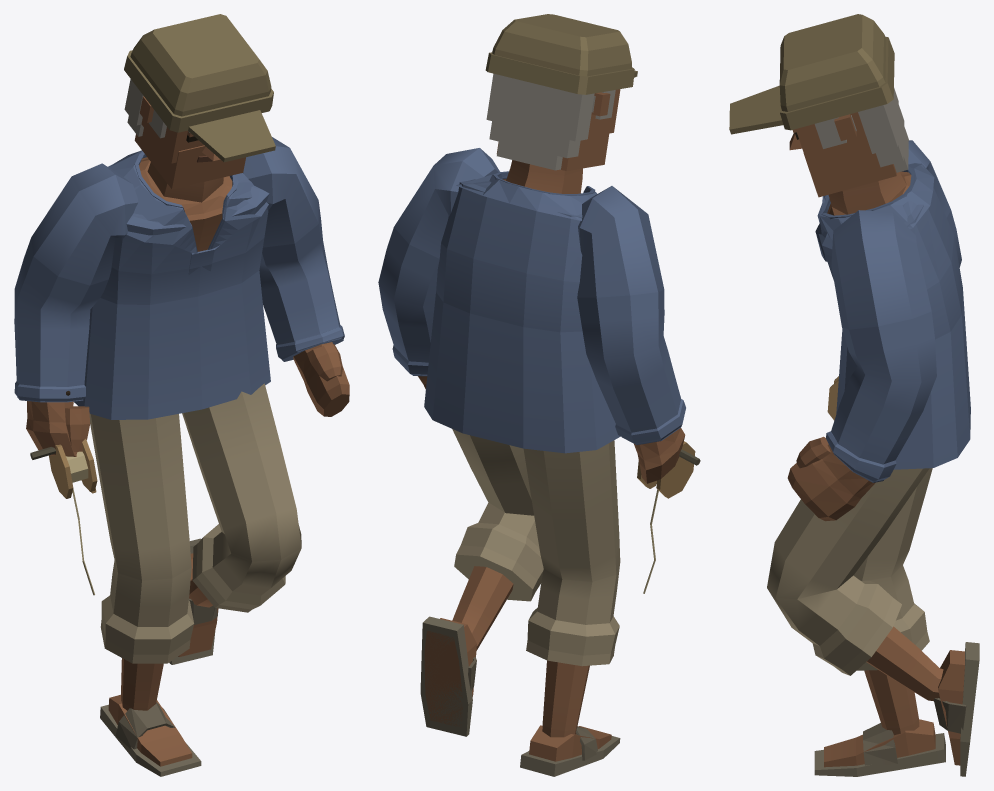
File: hanga-roa-fisherman-e56812__walk6.glb
3 renders of one model, left to right at view 1: azimuth 30°, elevation 25°; view 2: azimuth 150°, elevation 25°; view 3: azimuth 270°, elevation 25°, orthographic. The views are drawn at different scales.
Visible parts, largest first — view 1: hanga-roa-fisherman-e56812__walk6; view 2: hanga-roa-fisherman-e56812__walk6; view 3: hanga-roa-fisherman-e56812__walk6.
Boxes of the visible parts, box(x1,y1,x2,y2) form: hanga-roa-fisherman-e56812__walk6: box(14, 14, 349, 776); hanga-roa-fisherman-e56812__walk6: box(378, 14, 700, 776); hanga-roa-fisherman-e56812__walk6: box(729, 14, 979, 776).
Bounding box in the file's own units: 0.759 × 1.71 × 0.5165.
